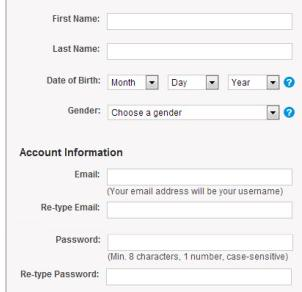field: (105, 10, 293, 31), (104, 200, 294, 220), (103, 42, 294, 61), (104, 167, 294, 186), (104, 267, 294, 286), (104, 232, 295, 250), (106, 104, 281, 120), (166, 74, 221, 91), (108, 74, 160, 91), (227, 74, 280, 90)
field_with_label: (52, 8, 295, 33), (20, 265, 296, 287), (41, 199, 296, 221), (52, 40, 296, 62), (56, 230, 297, 252), (74, 165, 296, 187), (68, 102, 284, 121), (45, 72, 161, 92)
